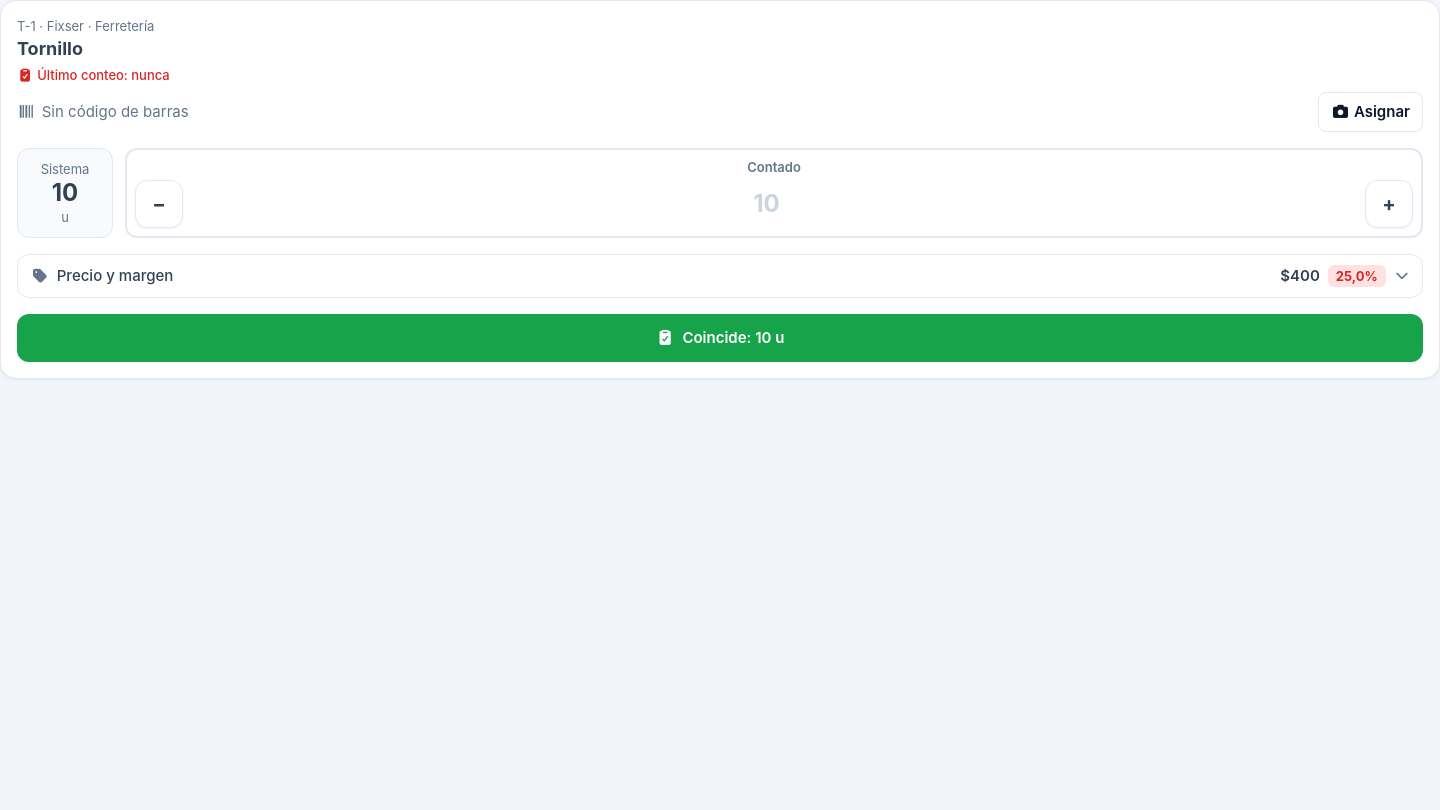
Scenario: components/ProductoCard › sincronización costo ↔ venta (ganancia como markup, igual que amproducto.php) › redondea la venta recalculada a 2 decimales
Click the button "Precio y margen $400 25,0%" at (115, 276), box [18, 255, 1422, 297]
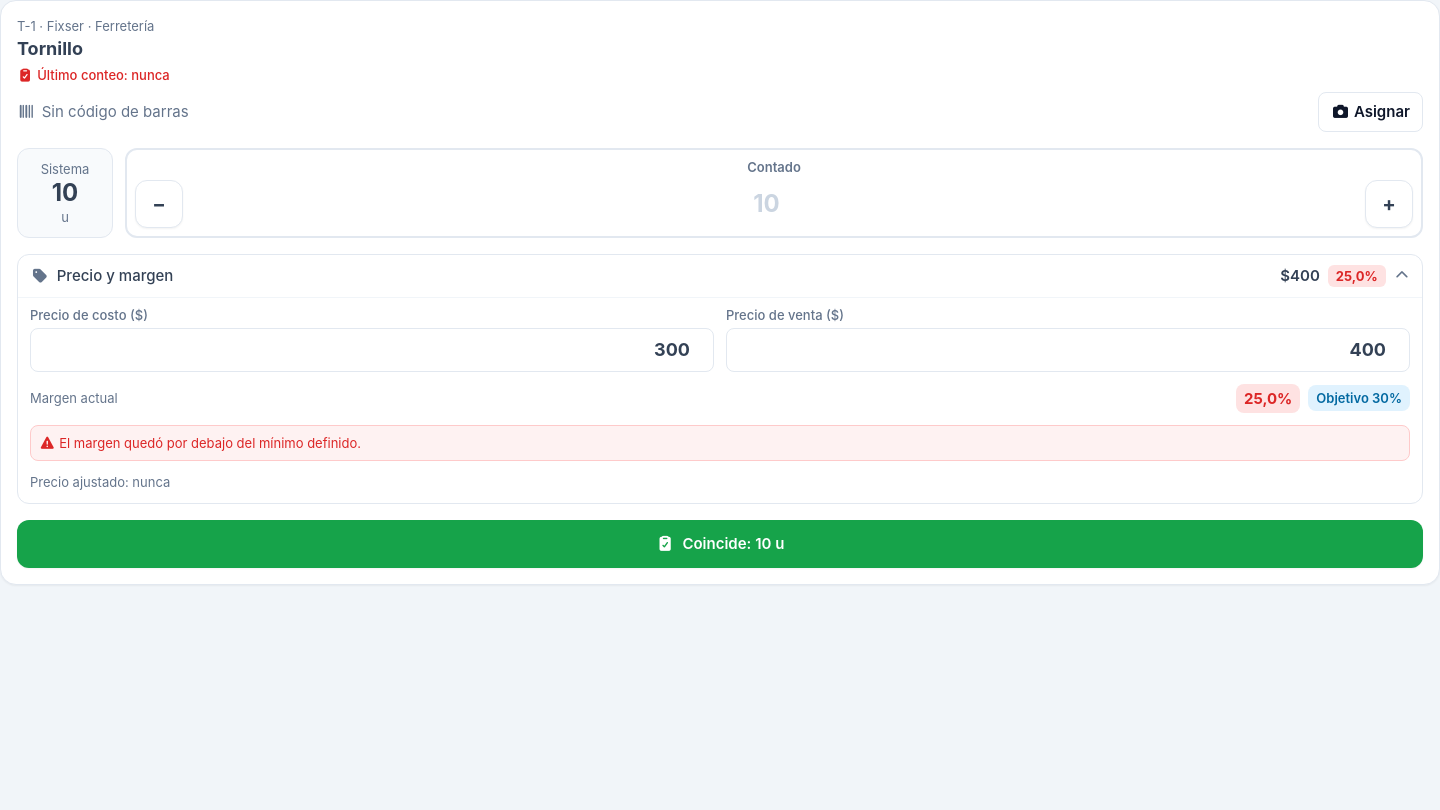
Replace the text in the number field named "Precio de costo" with "100" at (372, 350), box [30, 328, 714, 372]
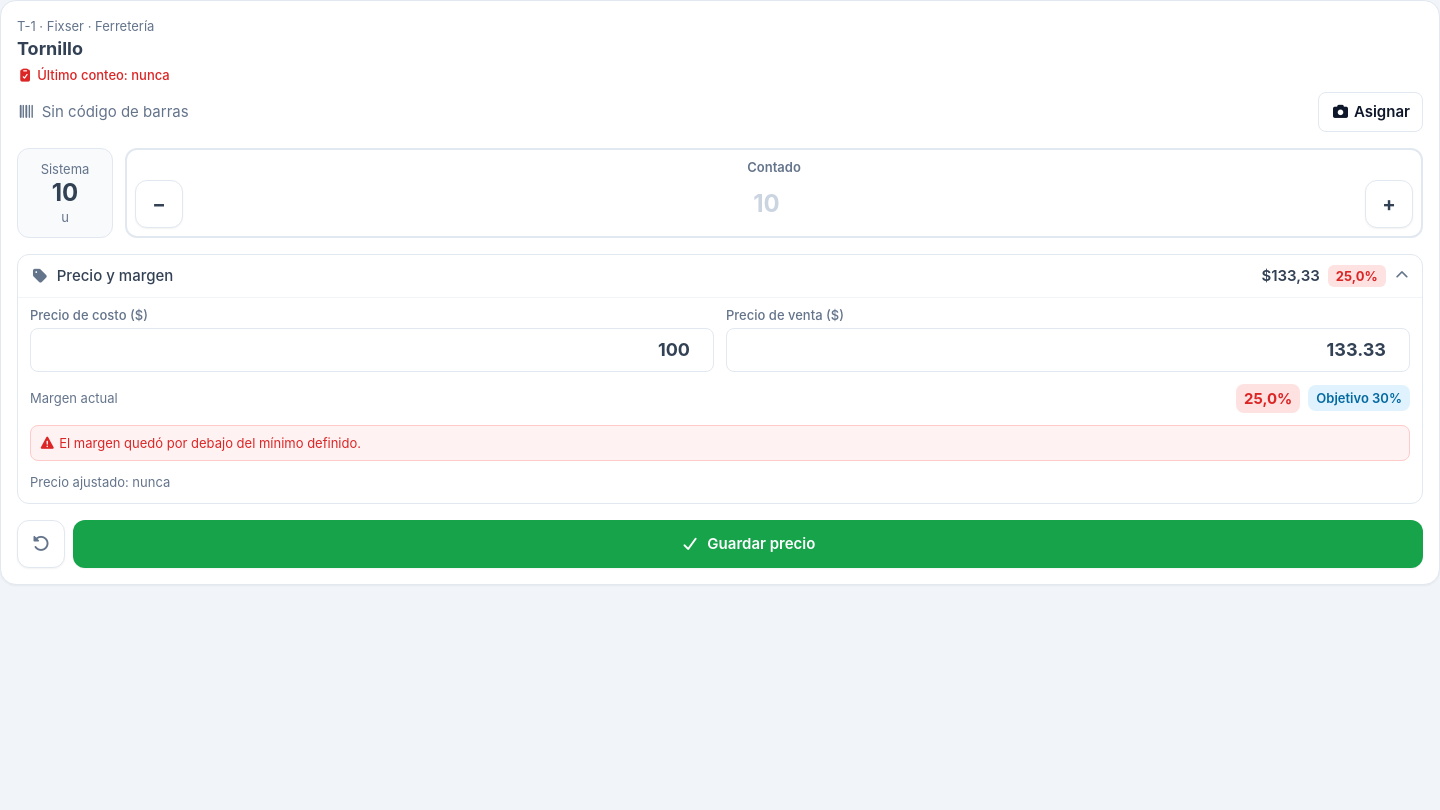
Check: the number field named "Precio de venta" holds "133.33", box [726, 328, 1410, 372]
